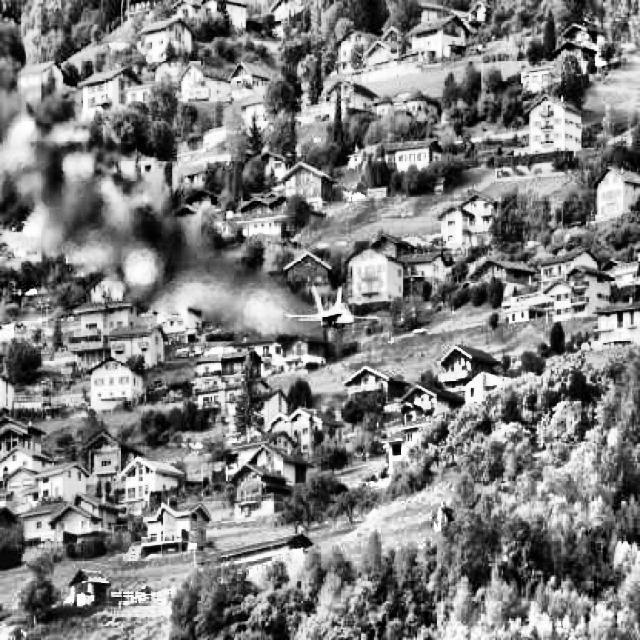F18: (285, 285, 380, 329)
